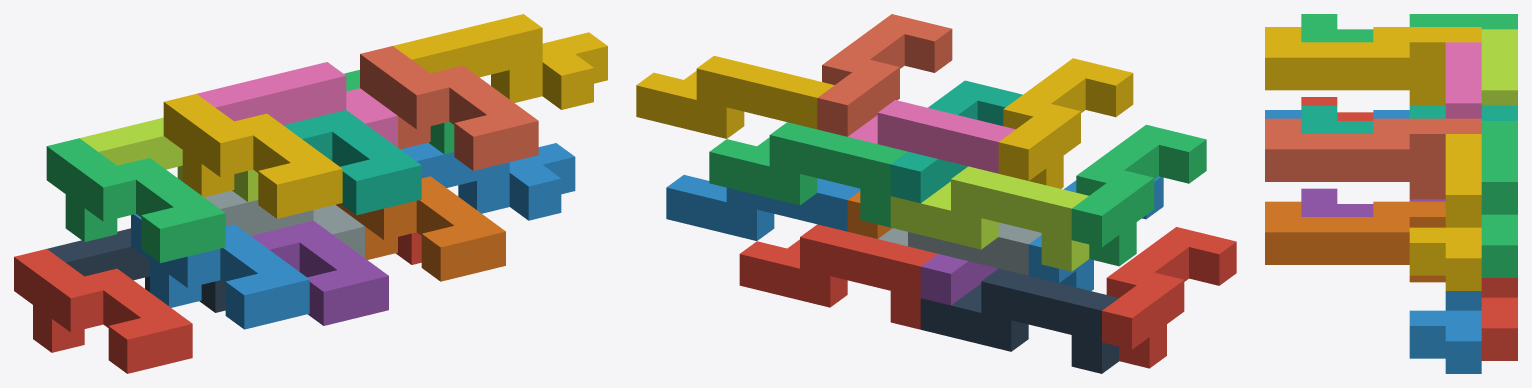
The model's file is tiling.obj.
3 views of the same model, side by side, from view 1: azimuth 30°, elevation 25°; view 2: azimuth 150°, elevation 25°; view 3: azimuth 270°, elevation 25° (orthographic). The views are drawn at different scales.
Parts seen in each view (by area): view 1: copy_1_domain_3, copy_1_domain_4, copy_1_domain_1, copy_1_domain_8, copy_2_domain_8, copy_1_domain_2, copy_1_domain_6, copy_2_domain_6, copy_1_domain_5, copy_1_domain_7, copy_2_domain_4, copy_2_domain_3 (+4 smaller); view 2: copy_2_domain_7, copy_2_domain_5, copy_2_domain_1, copy_2_domain_3, copy_1_domain_3, copy_1_domain_1, copy_2_domain_8, copy_1_domain_4, copy_1_domain_8, copy_2_domain_6, copy_2_domain_4, copy_1_domain_7 (+4 smaller); view 3: copy_1_domain_8, copy_1_domain_4, copy_1_domain_6, copy_2_domain_8, copy_2_domain_7, copy_2_domain_6, copy_1_domain_3, copy_2_domain_5, copy_2_domain_3, copy_2_domain_4, copy_1_domain_7, copy_1_domain_5 (+2 smaller).
Boxes of the visible parts, x1,y1,x2,y2 form: copy_1_domain_3: [46, 138, 225, 263]; copy_1_domain_4: [163, 94, 342, 218]; copy_1_domain_1: [14, 249, 192, 373]; copy_1_domain_8: [360, 46, 538, 170]; copy_2_domain_8: [393, 14, 607, 109]; copy_1_domain_2: [131, 214, 309, 329]; copy_1_domain_6: [336, 176, 505, 281]; copy_2_domain_6: [400, 142, 575, 220]; copy_1_domain_5: [251, 220, 388, 325]; copy_1_domain_7: [283, 110, 421, 215]; copy_2_domain_4: [197, 62, 397, 147]; copy_2_domain_3: [79, 117, 258, 202]; copy_2_domain_7: [709, 122, 907, 227]; copy_2_domain_5: [739, 224, 937, 329]; copy_2_domain_1: [920, 268, 1119, 373]; copy_2_domain_3: [890, 166, 1089, 271]; copy_1_domain_3: [1071, 124, 1206, 266]; copy_1_domain_1: [1102, 227, 1236, 368]; copy_2_domain_8: [636, 55, 834, 138]; copy_1_domain_4: [998, 58, 1133, 188]; copy_1_domain_8: [817, 14, 952, 136]; copy_2_domain_6: [666, 175, 860, 240]; copy_2_domain_4: [848, 100, 1015, 173]; copy_1_domain_7: [890, 80, 1022, 203]; copy_1_domain_8: [1265, 118, 1481, 199]; copy_1_domain_4: [1265, 27, 1481, 105]; copy_1_domain_6: [1265, 201, 1445, 282]; copy_2_domain_8: [1409, 134, 1481, 290]; copy_2_domain_7: [1481, 121, 1517, 277]; copy_2_domain_6: [1409, 291, 1481, 373]; copy_1_domain_3: [1301, 14, 1517, 42]; copy_2_domain_5: [1481, 278, 1517, 360]; copy_2_domain_3: [1481, 29, 1517, 105]; copy_2_domain_4: [1445, 42, 1481, 118]; copy_1_domain_7: [1301, 105, 1517, 133]; copy_1_domain_5: [1301, 188, 1445, 216].
Size of the model in its own units: 17 by 6 by 7.
